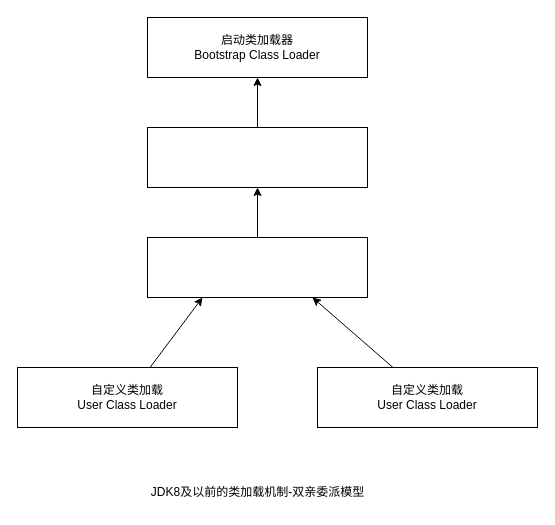
Some shapes in this 555 by 525 pixel diagram are drawn without their labels. Here are the shapes that lost their labels. From the top down, the centre of each, then its label:
the point at 257,157: 扩展类加载器 Extension Class Loader
the point at 257,267: 应用程序类加载器 Application Class Loader
